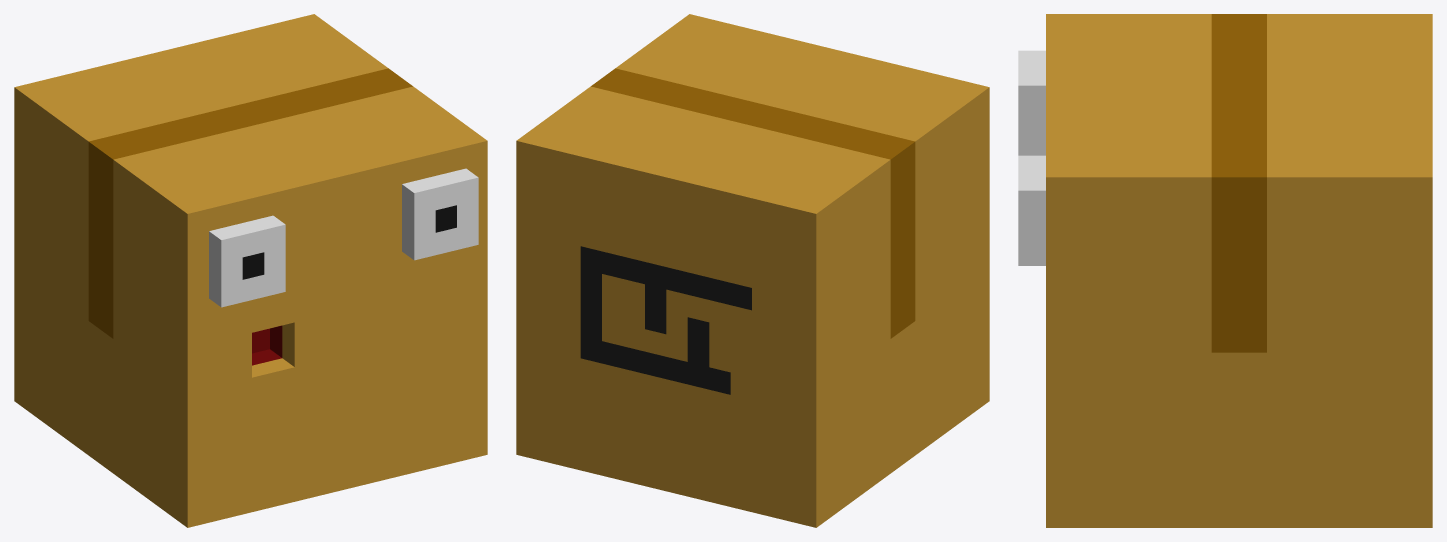
The model's file is bomb2.obj.
3 renders of one model, left to right at view 1: azimuth 30°, elevation 25°; view 2: azimuth 150°, elevation 25°; view 3: azimuth 270°, elevation 25°, orthographic. The views are drawn at different scales.
Size of the model in its own units: 14 by 14 by 15.
1 material, 1 textured.
